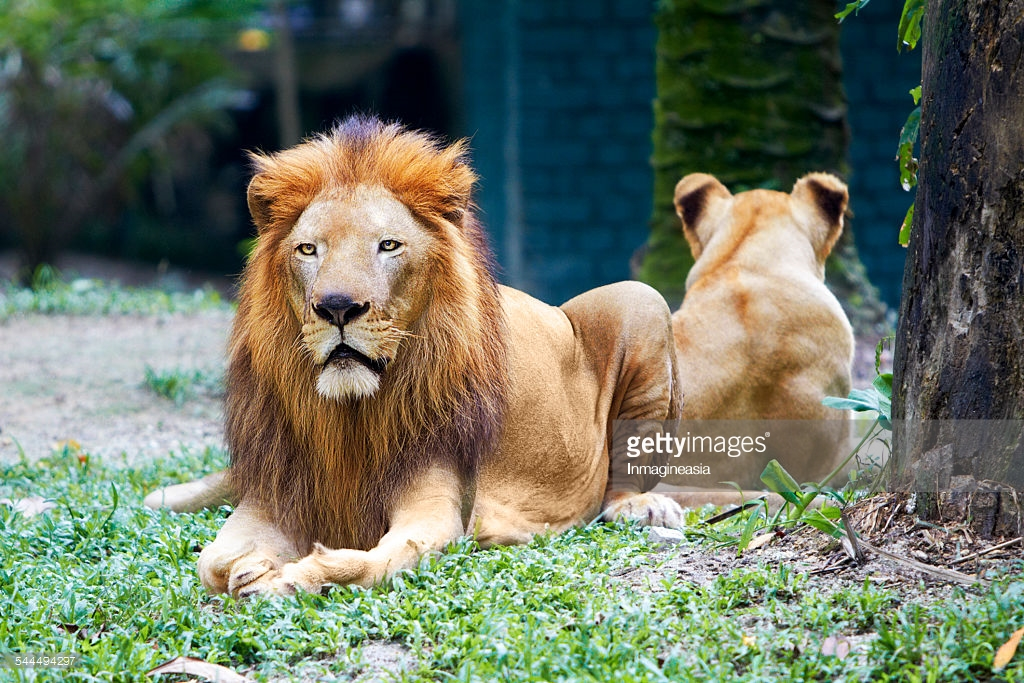lion: (142, 108, 682, 604), (666, 165, 861, 512)
